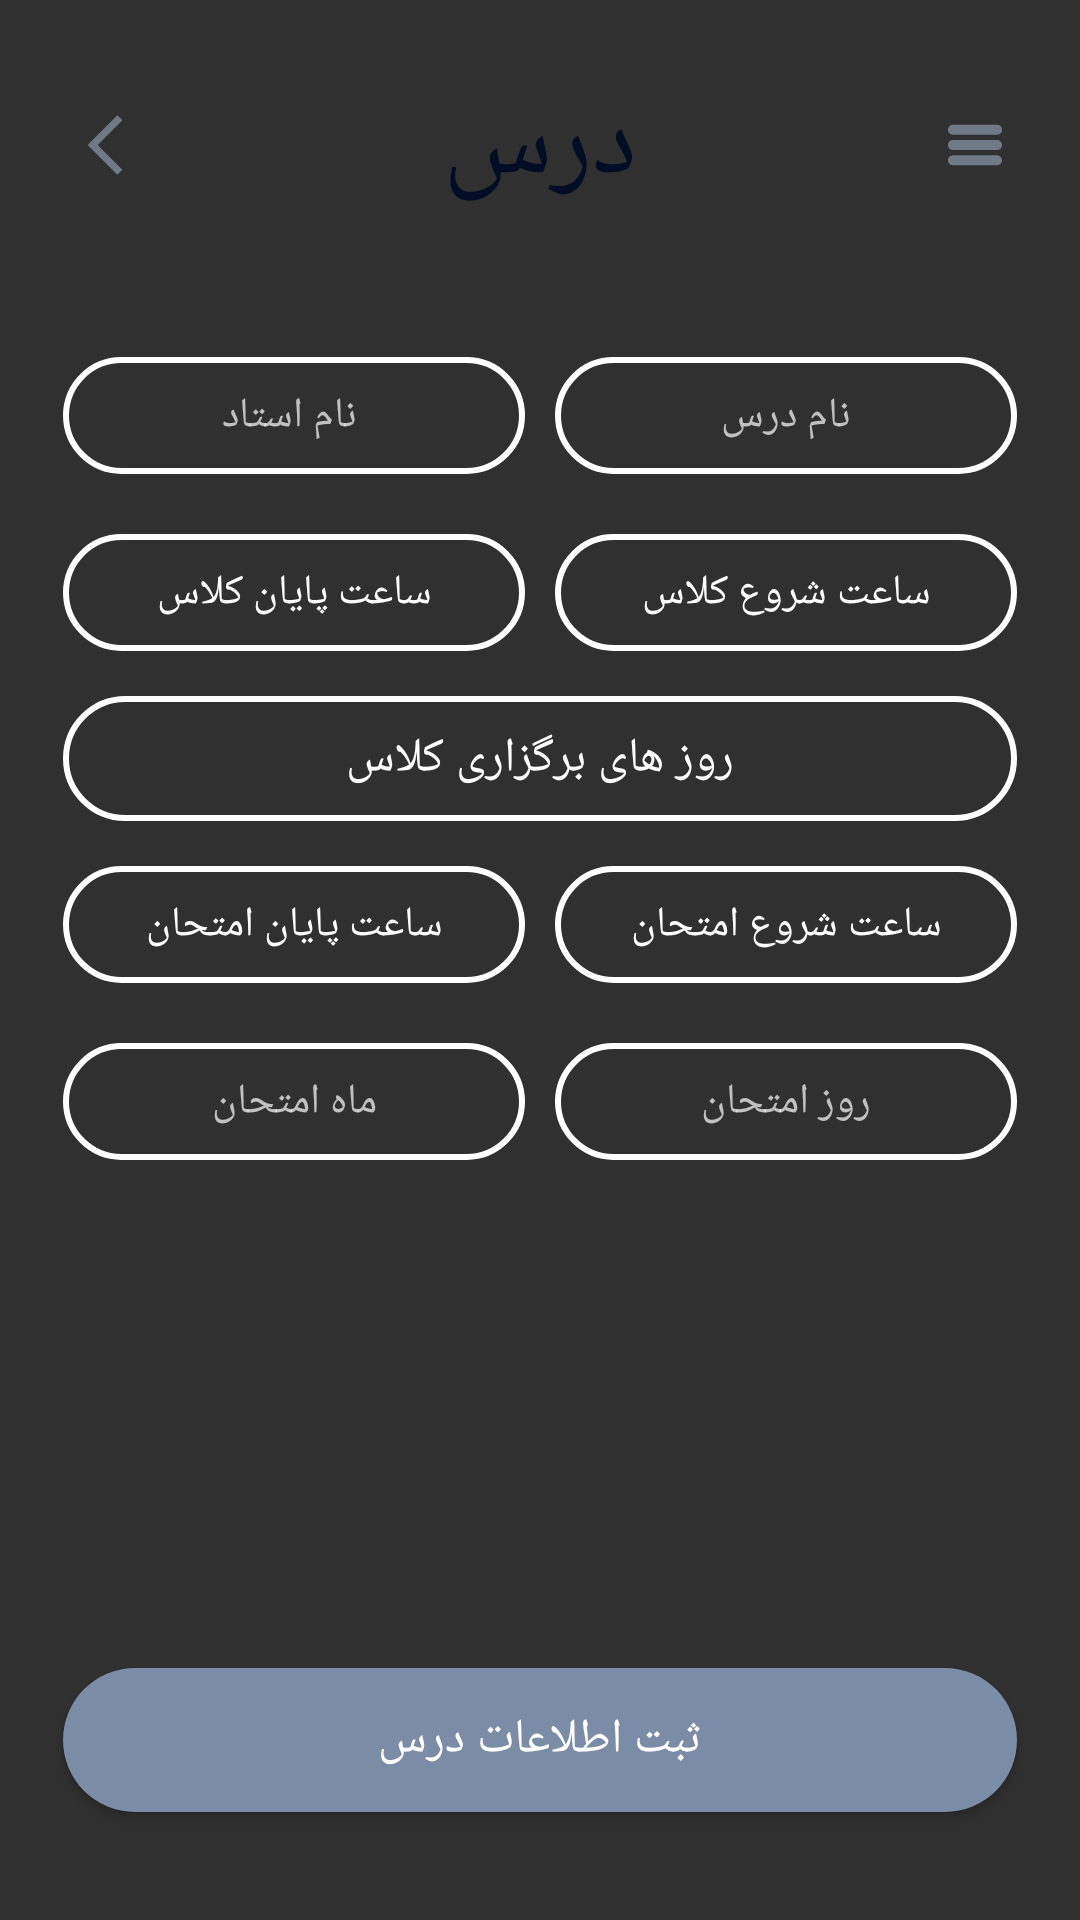

Icons on this 1080px x 1920px Android screen, each with its box as (x1, y1, x2, y2):
chevron left: (88, 115, 122, 175)
list: (948, 125, 1002, 165)
